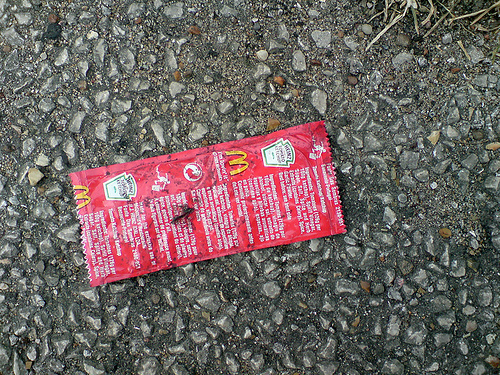litter: (71, 120, 343, 286)
